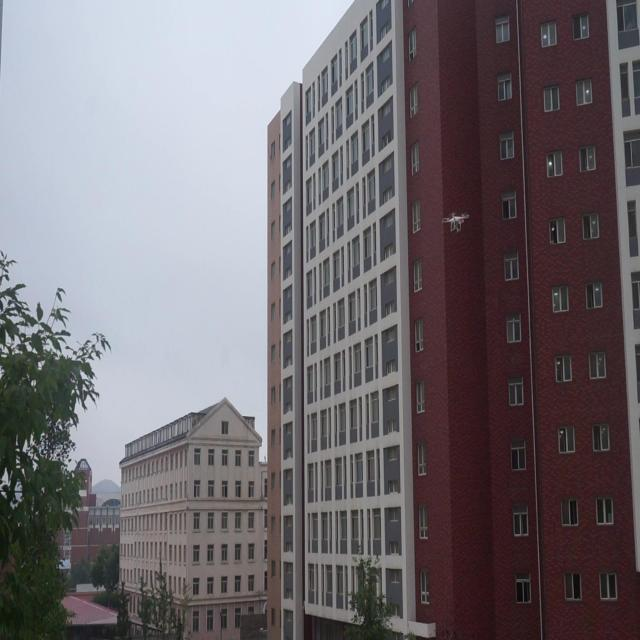UAV: (442, 212, 470, 232)
